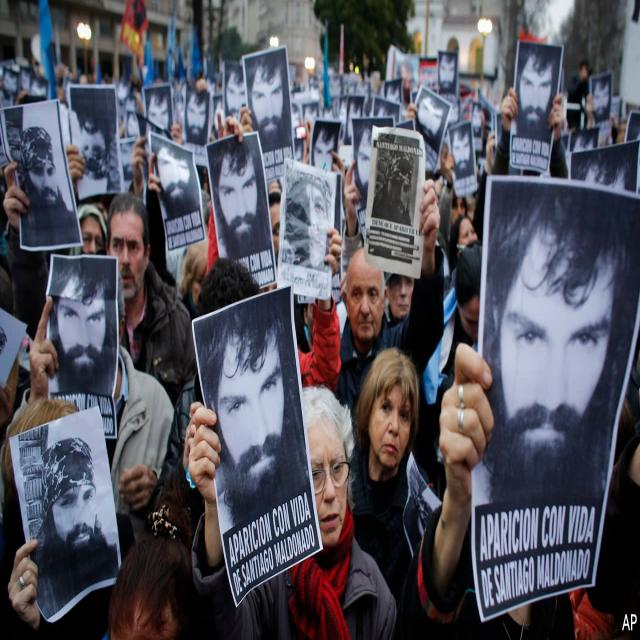body: (0, 0, 640, 640), (0, 149, 160, 639), (181, 374, 405, 639), (0, 266, 176, 545), (334, 175, 446, 430), (346, 343, 444, 613), (103, 190, 199, 414), (338, 154, 414, 327)
